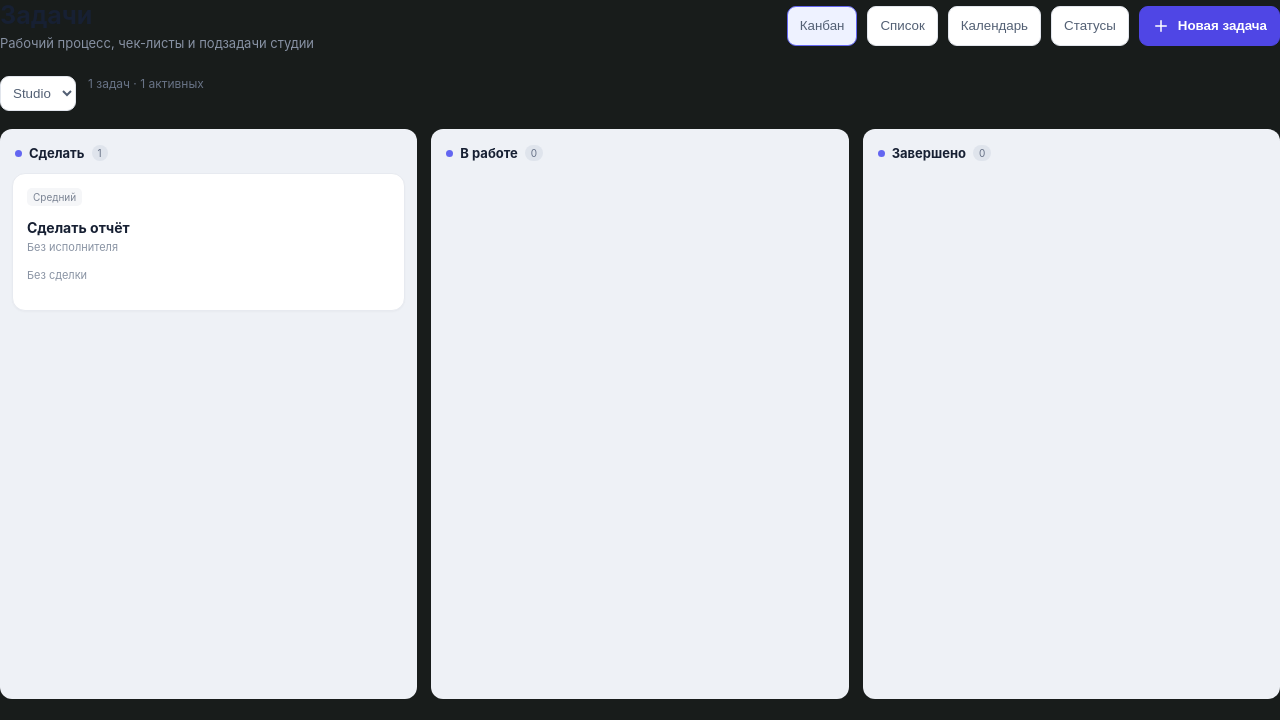
it: task module › renders workflow columns and creates a task
Expected: the element named "Открыть Сделать отчёт" is shown, [12, 173, 405, 311]
Click the button "Новая задача" at (1209, 26), box [1139, 6, 1279, 46]
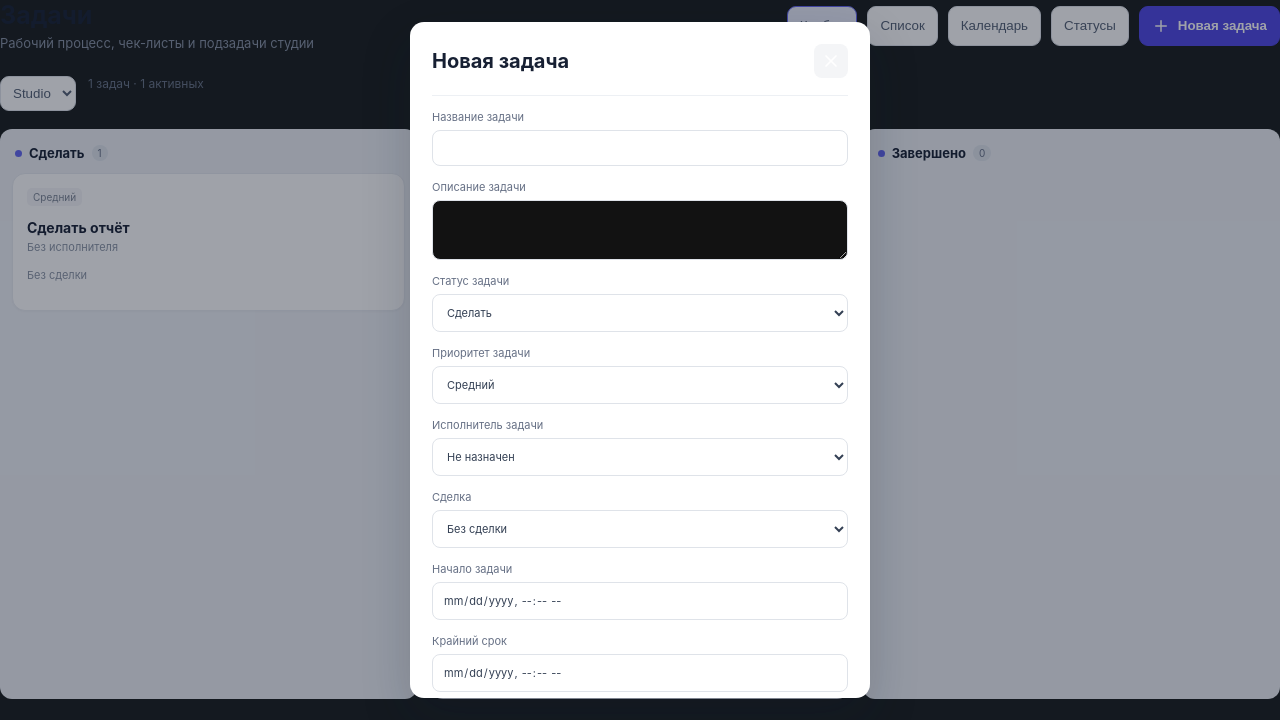
Type "Подготовить прототип" into the field labelled "Название задачи" at (640, 148), box [432, 130, 848, 166]
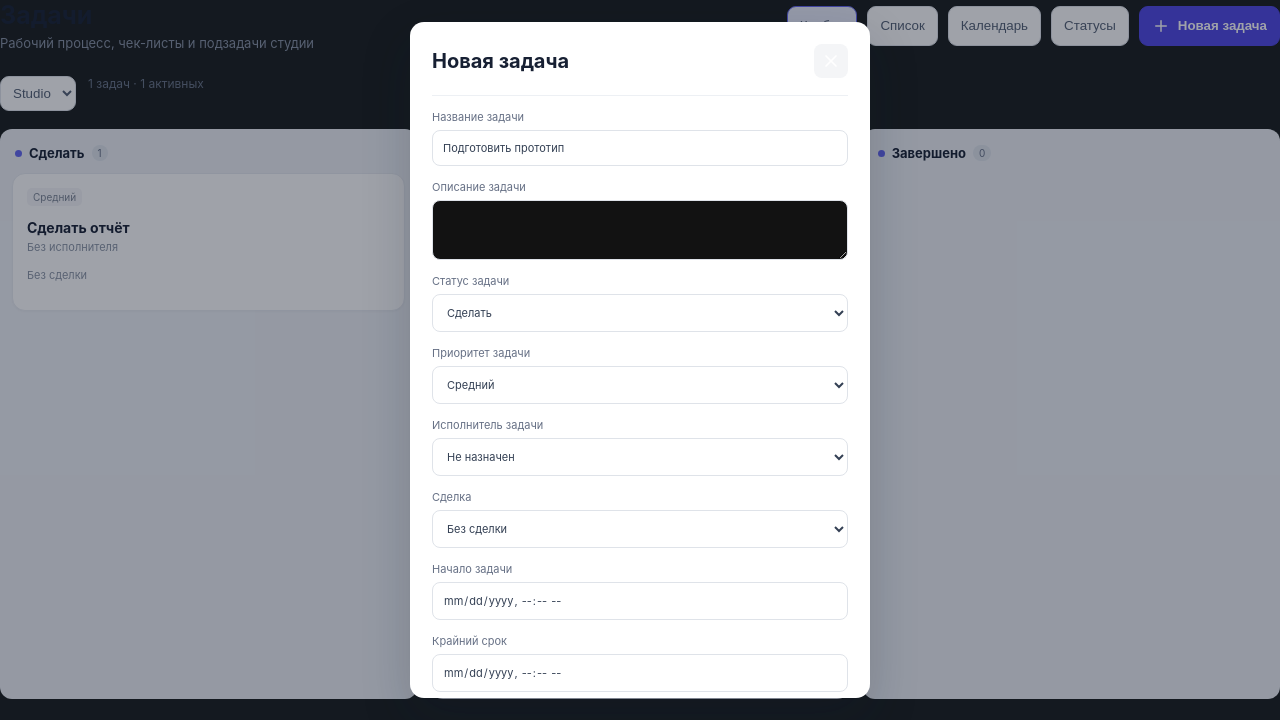
Select "Сайт клиента" in the dropdown labelled "Сделка" at (640, 529), box [432, 510, 848, 548]
(page scrolled)
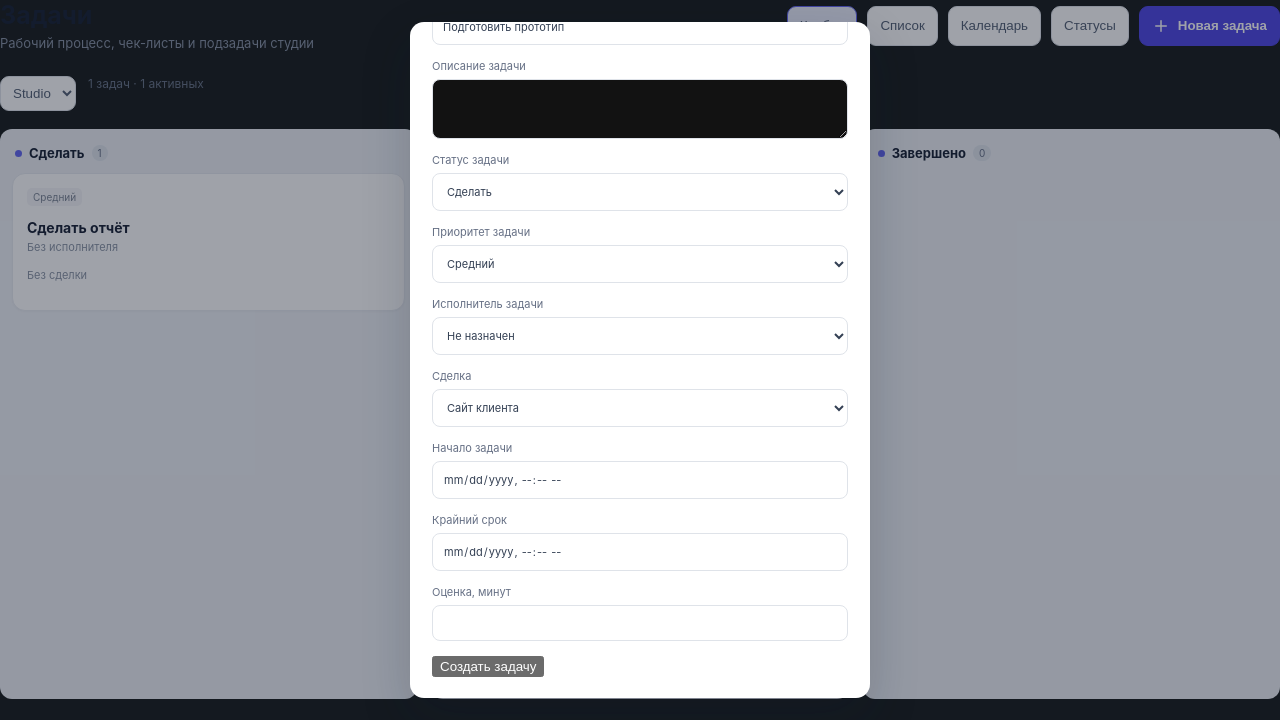
Click the button "Создать задачу" at (488, 666), box [432, 656, 544, 677]
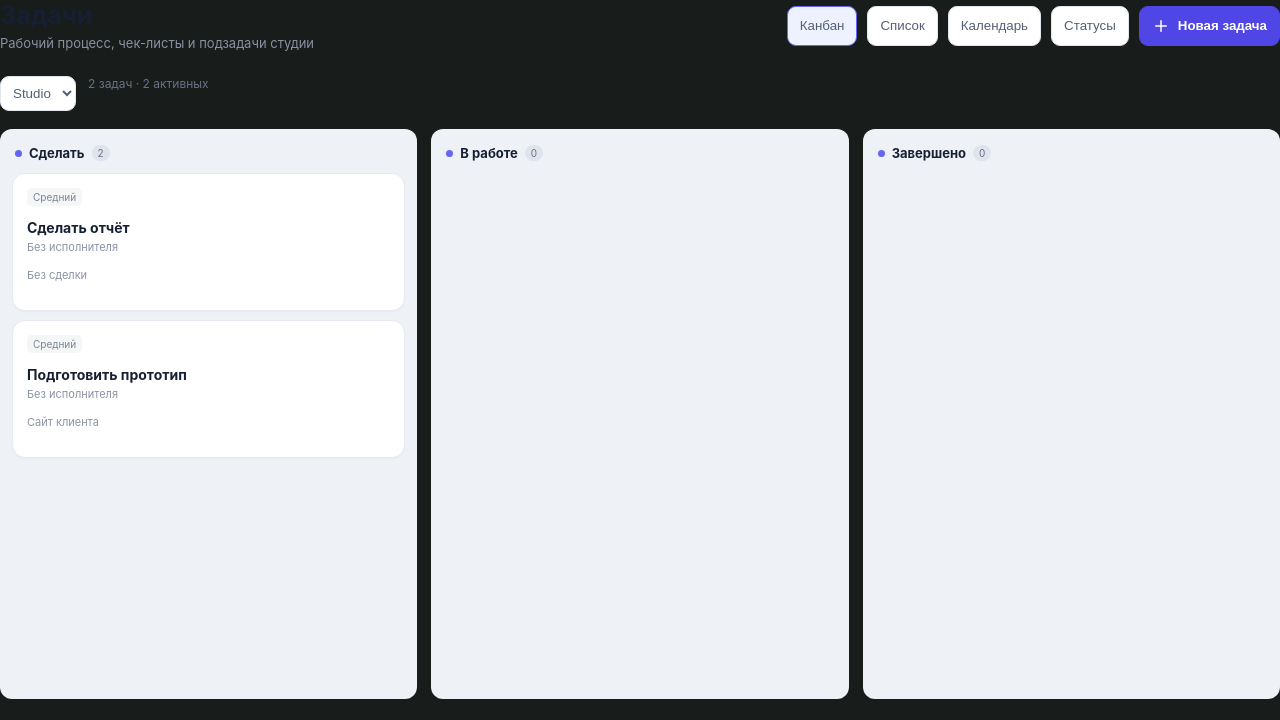
Expected: the element named "Открыть Подготовить прототип" is shown, [12, 320, 405, 458]
